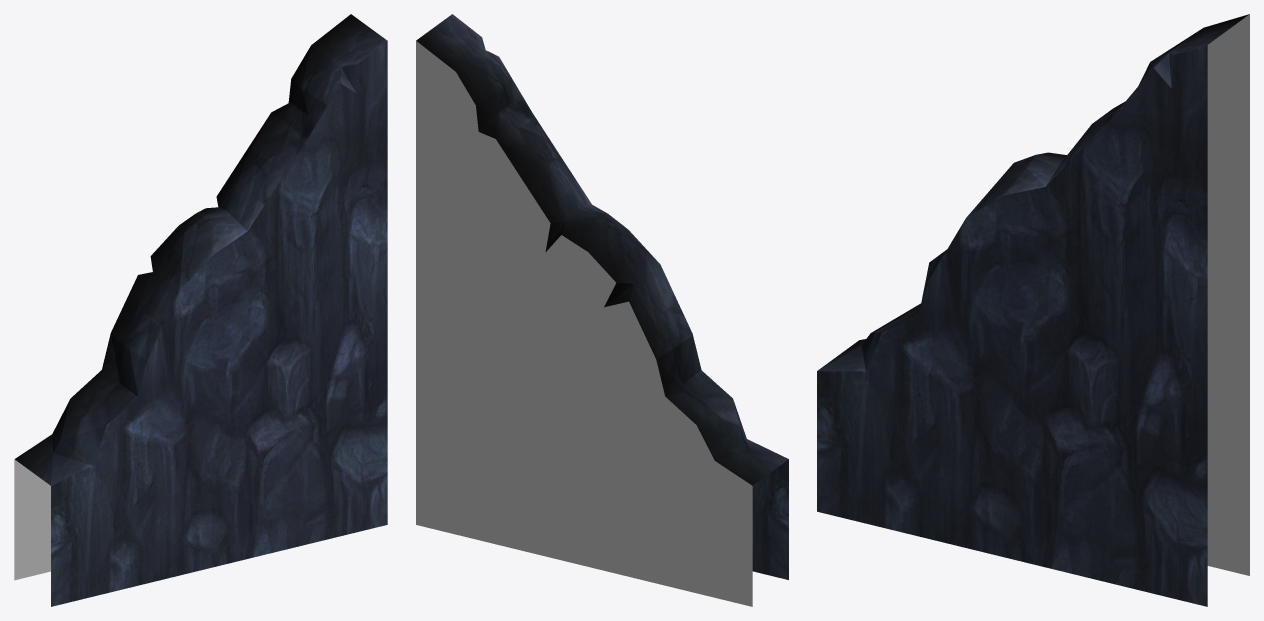
The model's file is mine_broken_tranwall_02.fbx.
3 views of the same model, side by side, from view 1: azimuth 30°, elevation 25°; view 2: azimuth 150°, elevation 25°; view 3: azimuth 330°, elevation 25° (orthographic). The views are drawn at different scales.
Parts seen in each view (by area): view 1: mine_broken_tranwall_02-0; view 2: mine_broken_tranwall_02-0; view 3: mine_broken_tranwall_02-0.
Boxes of the visible parts, box(x1,y1,x2,y2) form: mine_broken_tranwall_02-0: box(14, 14, 387, 606); mine_broken_tranwall_02-0: box(416, 14, 788, 606); mine_broken_tranwall_02-0: box(817, 14, 1249, 606).
Size of the model in its own units: 4 by 5.5 by 0.75.
